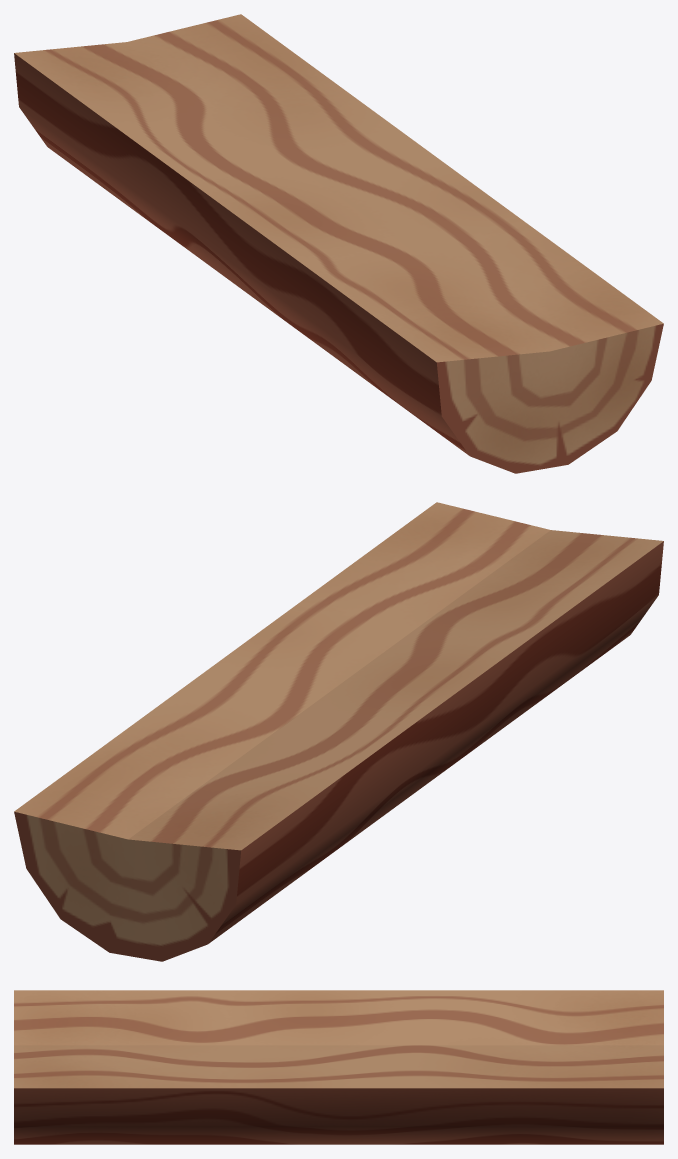
The model's file is Log2.FBX.
The picture shows the model from 3 angles, top to bottom: view 1: azimuth 30°, elevation 25°; view 2: azimuth 150°, elevation 25°; view 3: azimuth 270°, elevation 25°; orthographic projection. The views are drawn at different scales.
Visible parts, largest first — view 1: Log2; view 2: Log2; view 3: Log2.
Boxes of the visible parts, box(x1,y1,x2,y2) form: Log2: box(14, 14, 663, 473); Log2: box(14, 502, 663, 961); Log2: box(14, 990, 663, 1144).
Bounding box in the file's own units: 17.13 × 9.69 × 55.2.
